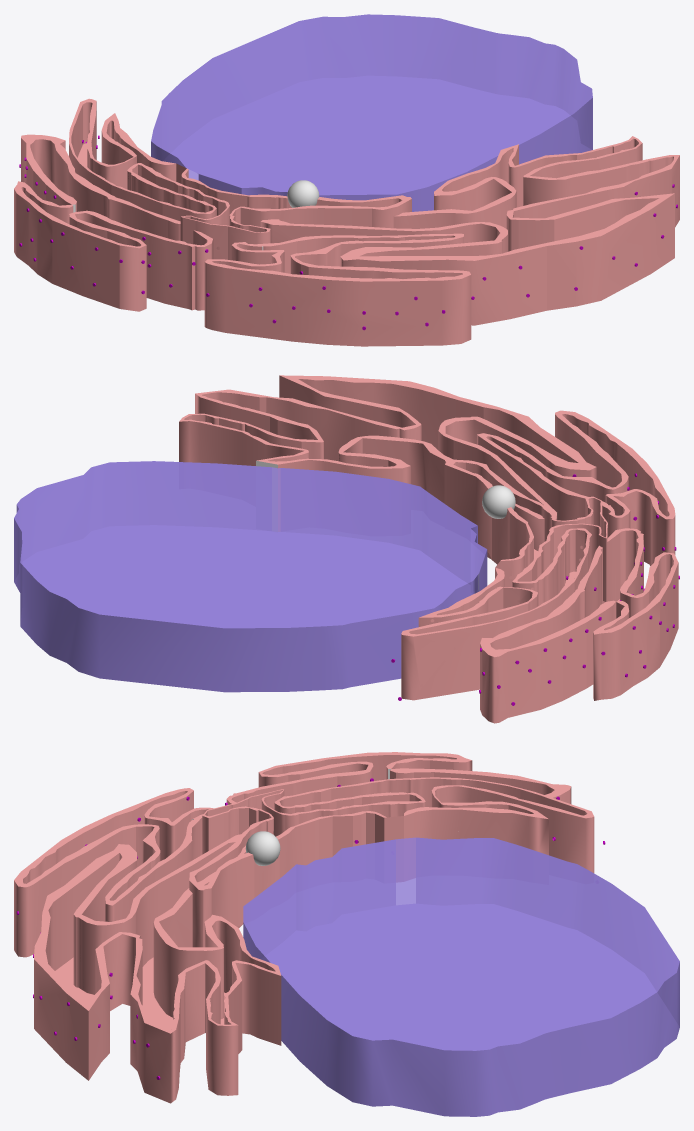
Rendered from Animatedendoplasmicreticulum.fbx.
3 views of the same model, one above another, from view 1: azimuth 30°, elevation 25°; view 2: azimuth 150°, elevation 25°; view 3: azimuth 270°, elevation 25° (orthographic). The views are drawn at different scales.
Parts seen in each view (by area): view 1: SketchUp_002, SketchUp_007, SketchUp_009, SketchUp_014, SketchUp_005, SketchUp_003, SketchUp_013, SketchUp_015, Sphere_0; view 2: SketchUp_002, SketchUp_005, SketchUp_007, SketchUp_014, SketchUp_003, SketchUp_009, SketchUp_015, SketchUp_013, Sphere_0; view 3: SketchUp_002, SketchUp_005, SketchUp_007, SketchUp_003, SketchUp_009, SketchUp_014, SketchUp_013, Sphere_0.
Boxes of the visible parts, <box> form: SketchUp_002: <box>151,14,592,211</box>; SketchUp_007: <box>260,136,679,325</box>; SketchUp_009: <box>204,233,471,346</box>; SketchUp_014: <box>14,134,213,311</box>; SketchUp_005: <box>69,98,411,260</box>; SketchUp_003: <box>360,138,673,256</box>; SketchUp_013: <box>212,235,462,278</box>; SketchUp_015: <box>21,138,71,205</box>; Sphere_0: <box>287,180,319,207</box>; SketchUp_002: <box>14,461,487,692</box>; SketchUp_005: <box>401,459,607,700</box>; SketchUp_007: <box>179,375,596,559</box>; SketchUp_014: <box>480,528,678,700</box>; SketchUp_003: <box>184,379,578,504</box>; SketchUp_009: <box>477,410,675,565</box>; SketchUp_015: <box>480,602,616,723</box>; SketchUp_013: <box>486,414,669,516</box>; Sphere_0: <box>482,485,515,518</box>; SketchUp_002: <box>243,837,679,1116</box>; SketchUp_005: <box>189,777,594,947</box>; SketchUp_007: <box>34,834,281,1103</box>; SketchUp_003: <box>45,842,275,1030</box>; SketchUp_009: <box>14,788,213,957</box>; SketchUp_014: <box>226,752,570,804</box>; SketchUp_013: <box>23,791,208,900</box>; Sphere_0: <box>245,831,280,865</box>.
Bounding box in the file's own units: 4028 × 605 × 3819.
